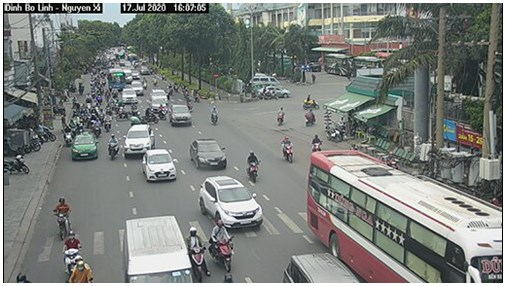xe_buyt: (305, 145, 503, 282), (104, 67, 127, 90)
xe_hoi: (195, 174, 265, 232), (141, 145, 179, 184), (190, 138, 229, 171), (122, 122, 156, 159), (169, 102, 194, 128), (119, 86, 138, 105)
xe_khach: (115, 211, 195, 283)
xe_may: (182, 227, 210, 282), (209, 218, 237, 271), (51, 189, 73, 241), (61, 230, 82, 277), (278, 133, 297, 164), (104, 132, 122, 161), (245, 146, 259, 183), (273, 102, 288, 126), (58, 125, 73, 146), (303, 108, 317, 128), (309, 133, 321, 155), (210, 103, 221, 126)
